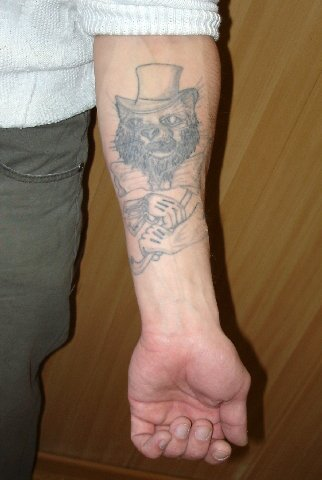tatu8_kot: (97, 55, 217, 274)
